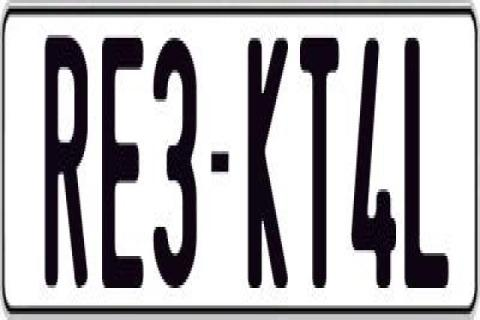0: (152, 29, 202, 285), (350, 32, 398, 288)
E: (98, 32, 142, 285)
K: (246, 35, 288, 299)
L: (404, 29, 452, 291)
R: (44, 26, 85, 294)
T: (296, 32, 338, 300)
